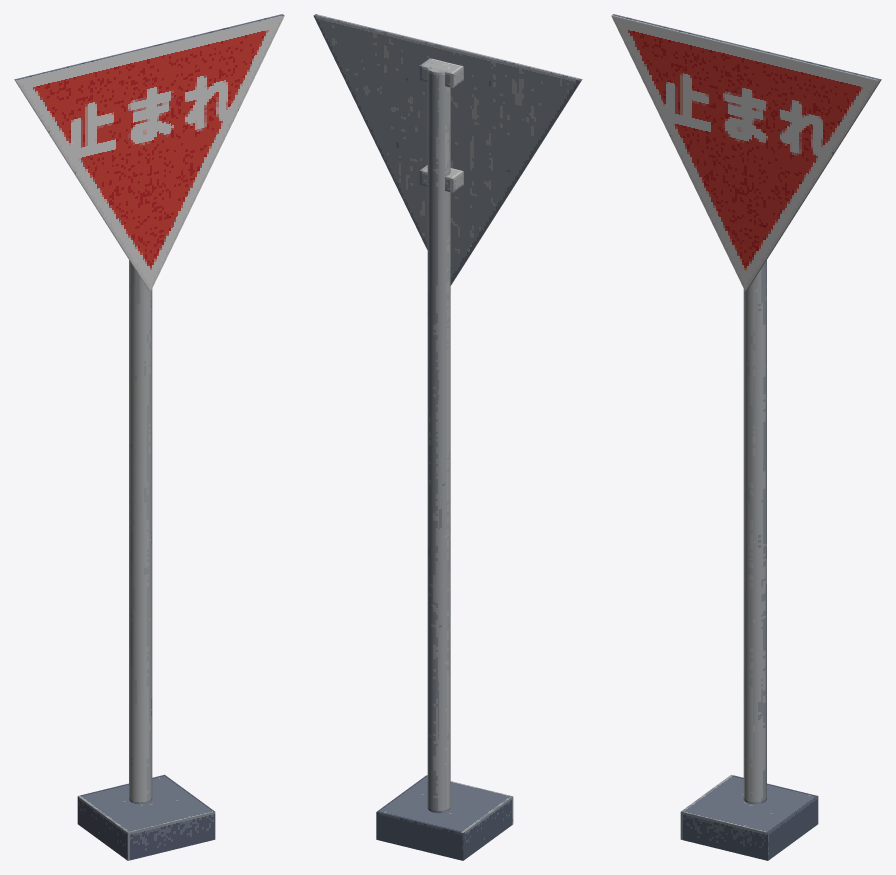
File: tomare.glb
The picture shows the model from 3 angles, left to right: view 1: azimuth 30°, elevation 25°; view 2: azimuth 150°, elevation 25°; view 3: azimuth 330°, elevation 25°; orthographic projection.
Parts seen in each view (by area): view 1: mesh; view 2: mesh; view 3: mesh.
Boxes of the visible parts, bbox=[...] form: mesh: bbox=[14, 14, 284, 860]; mesh: bbox=[313, 14, 582, 860]; mesh: bbox=[611, 14, 881, 860].
Size of the model in its own units: 0.8056 by 2.26 by 0.2619.
1 material, 1 textured.
